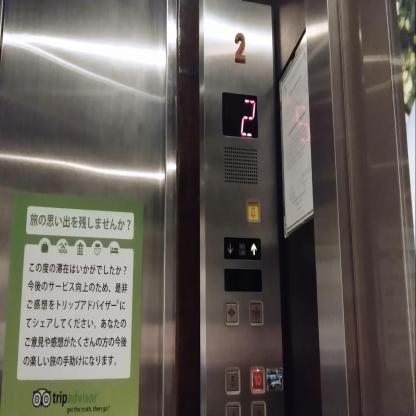10: (249, 365, 266, 395)
5: (224, 364, 241, 396)
alarm: (245, 198, 261, 224)
close: (248, 297, 264, 328)
led: (220, 87, 258, 139)
open: (223, 297, 240, 328)
speaker: (223, 143, 258, 187)
